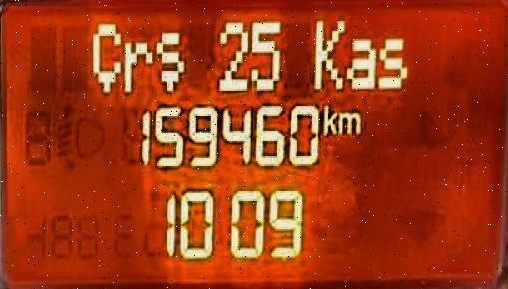0: (227, 187, 264, 257), (177, 189, 213, 259), (286, 102, 319, 164)
1: (163, 192, 175, 257), (138, 109, 150, 165)
2: (215, 19, 248, 90)
4: (221, 107, 251, 162)
5: (248, 19, 282, 90), (153, 104, 183, 165)
6: (253, 102, 284, 166)
9: (267, 189, 302, 257), (187, 104, 217, 167)
X: (311, 17, 344, 89), (89, 20, 120, 94), (153, 29, 184, 90), (375, 35, 408, 89), (344, 37, 375, 89), (122, 39, 152, 92), (337, 109, 361, 134), (321, 102, 337, 134)
